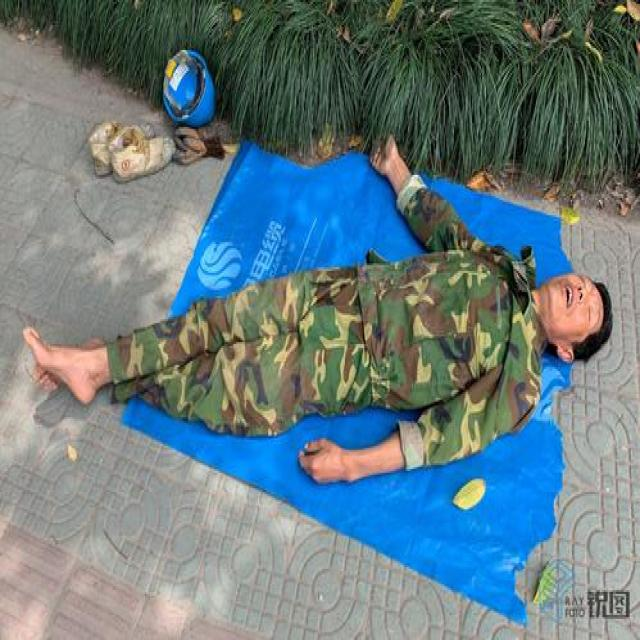down: (23, 144, 620, 498)
